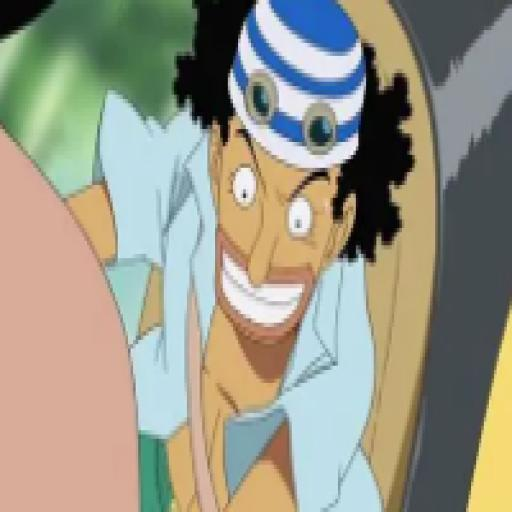Usopp: (28, 0, 420, 512)
